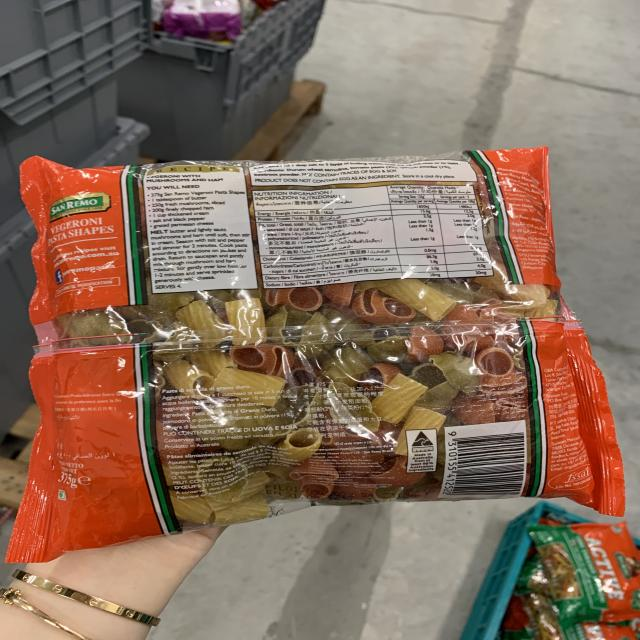object_name: (24, 161, 620, 514)
